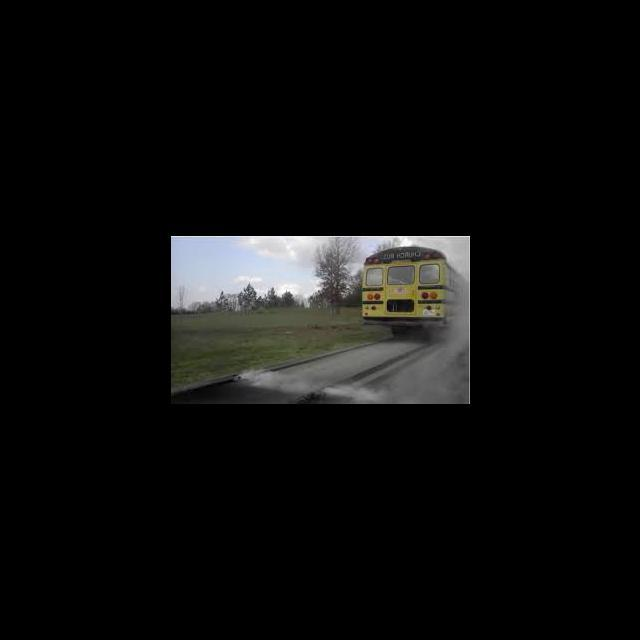Smoke: (233, 356, 379, 403)
